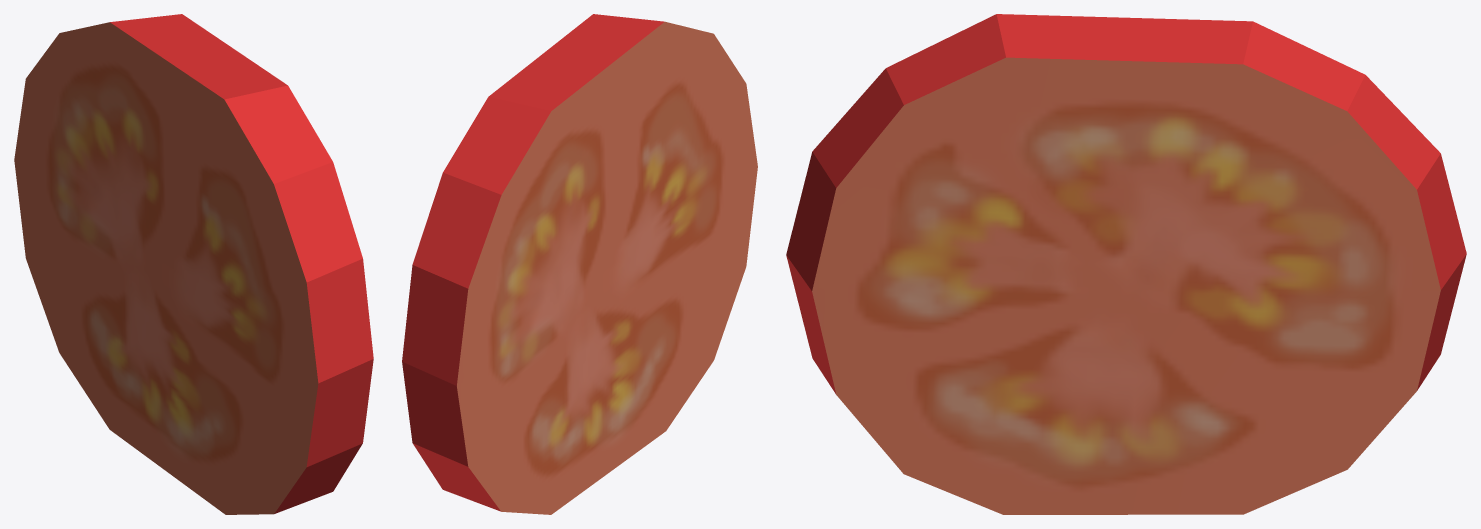
The model's file is ING_tomatoThirdsV03.fbx.
The picture shows the model from 3 angles, left to right: view 1: azimuth 30°, elevation 25°; view 2: azimuth 150°, elevation 25°; view 3: azimuth 270°, elevation 25°; orthographic projection. The views are drawn at different scales.
Visible parts, largest first — view 1: Quarter Tomato 1/4; view 2: Quarter Tomato 1/4; view 3: Quarter Tomato 1/4.
Boxes of the visible parts, x1=… form: Quarter Tomato 1/4: x1=14, y1=14, x2=373, y2=514; Quarter Tomato 1/4: x1=402, y1=14, x2=757, y2=514; Quarter Tomato 1/4: x1=786, y1=14, x2=1466, y2=514.
Bounding box in the file's own units: 9.91 × 57.68 × 76.71.
